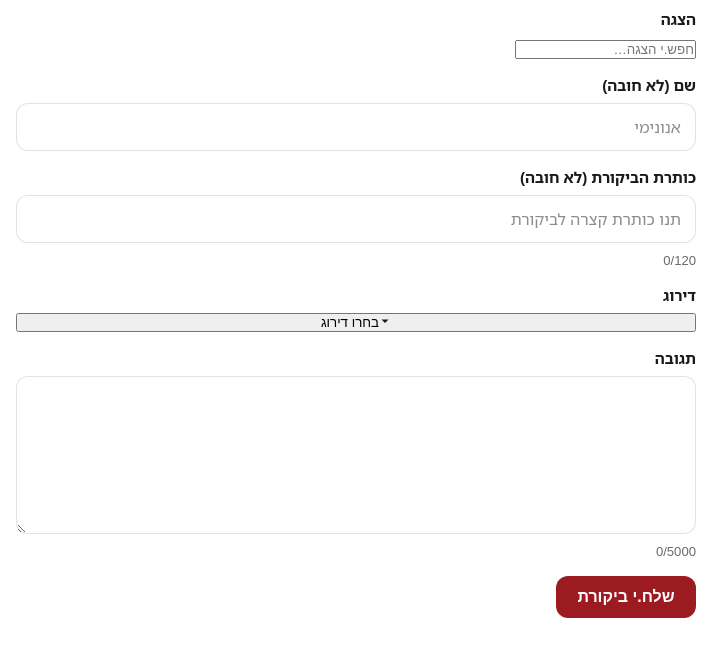
ReviewForm › shows validation errors when submitting empty form
This screenshot has width=711, height=658.
Click the button "שלח.י ביקורת" at (626, 597), box [556,576,696,618]
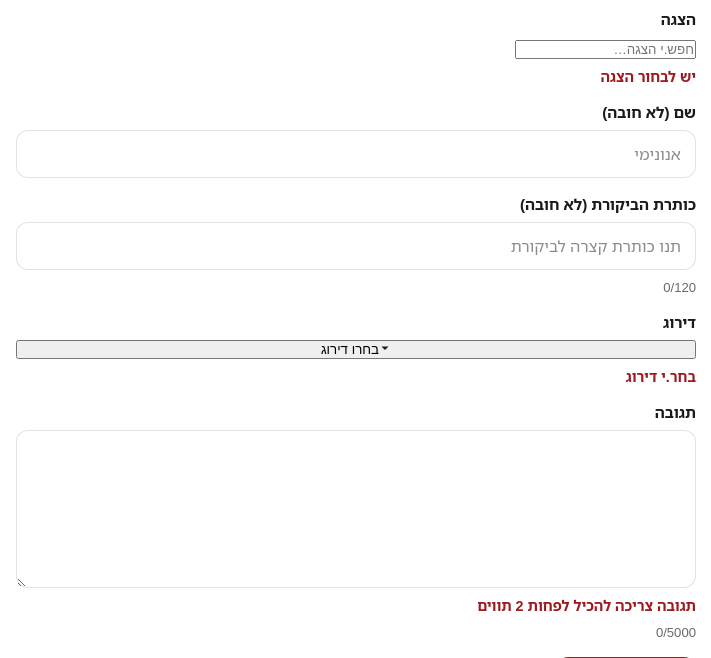
Check: the text "יש לבחור הצגה" is shown, box [600,67,696,86]
